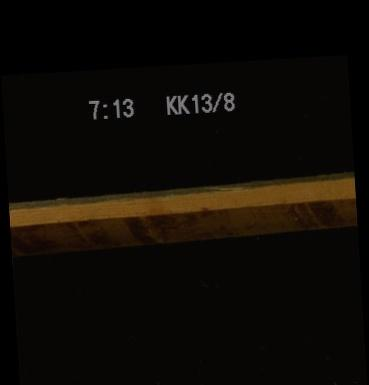wave: (9, 201, 356, 232)
